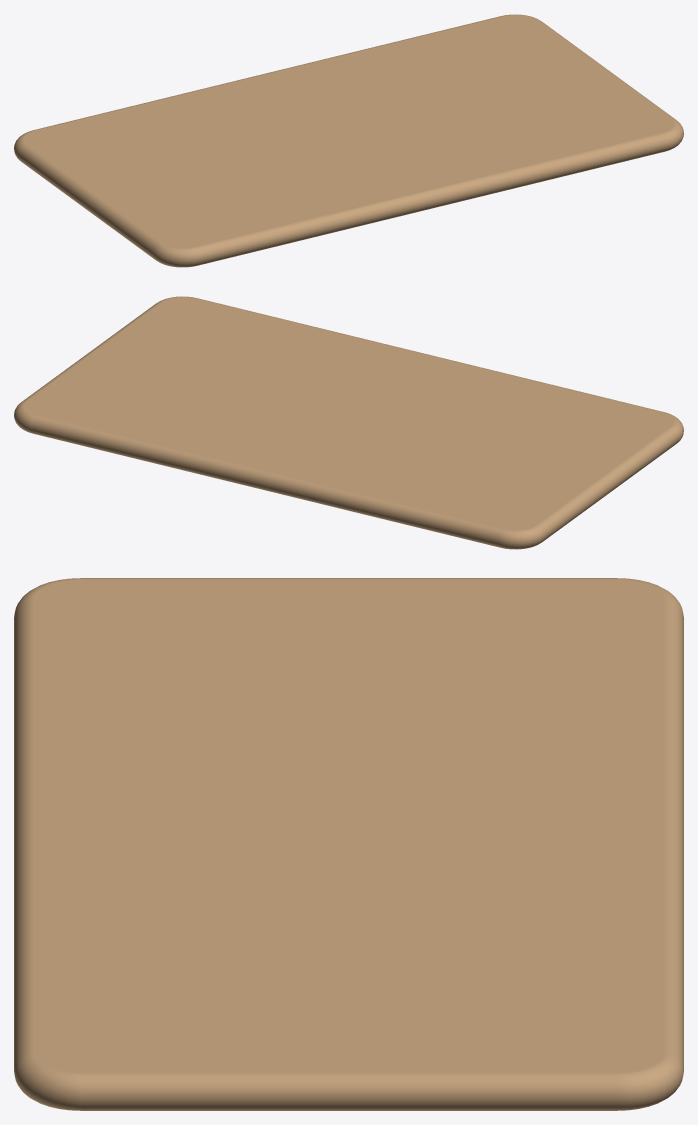
File: Desk.glb
3 renders of one model, top to bottom at view 1: azimuth 30°, elevation 25°; view 2: azimuth 150°, elevation 25°; view 3: azimuth 270°, elevation 25°, orthographic. The views are drawn at different scales.
Visible parts, largest first — view 1: Desk; view 2: Desk; view 3: Desk.
Part boxes in pixels (box(x1,y1,x2,y2)): Desk: box(14, 14, 683, 267); Desk: box(14, 296, 683, 549); Desk: box(14, 578, 683, 1110).
Bounding box in the file's own units: 0.9 × 0.03 × 0.5.
